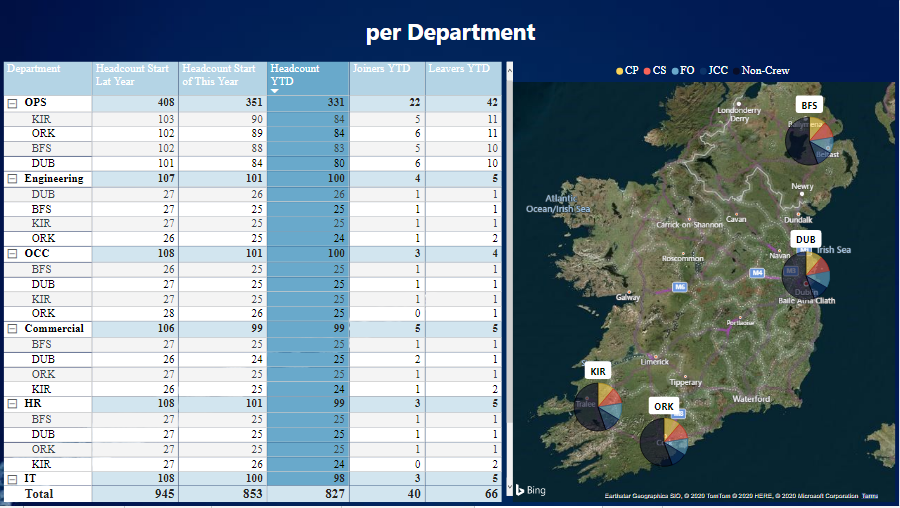

What the dashboard file says about the page in this screenshot:
{"tool":"powerbi","page":{"name":"per Department","canvas":[1280,720],"ordinal":4},"visuals":[{"type":"textbox","box":[400.1,16.7,481.6,64.8],"z":0},{"type":"pivotTable","title":"Joiners This Year","fields":{"Rows":["Raw Data 1.Department","Raw Data 1.Base"],"Values":["Measures 1.804.Headcount Start LY","Measures 1.104.Headcount Start of Year","Measures 1.107.Headcount YTD","Measures 1.108.Joiners YTD","Measures 1.109.Leavers YTD"]},"box":[0,83.1,734.8,637.1],"z":1000},{"type":"map","fields":{"Category":["Raw Data 1.Base"],"Y":["Avg(Raw Data 1.Latitude)"],"X":["Avg(Raw Data 1.Longitude)"],"Size":["Sum(Raw Data 1.Headcount)"],"Series":["Raw Data 1.Rank"]},"box":[724.6,80.2,555.4,640],"z":2000}]}

Visuals, with their boxes in screenshot pixels (x1, y1, x2, y2), scaled from the page's 1280x720 canvas onto the 900x508 screenshot:
textbox: x1=281, y1=12, x2=620, y2=58
"Joiners This Year" pivotTable: x1=0, y1=59, x2=517, y2=507
map - Raw Data 1.Base x Avg(Raw Data 1.Latitude): x1=509, y1=57, x2=899, y2=507
